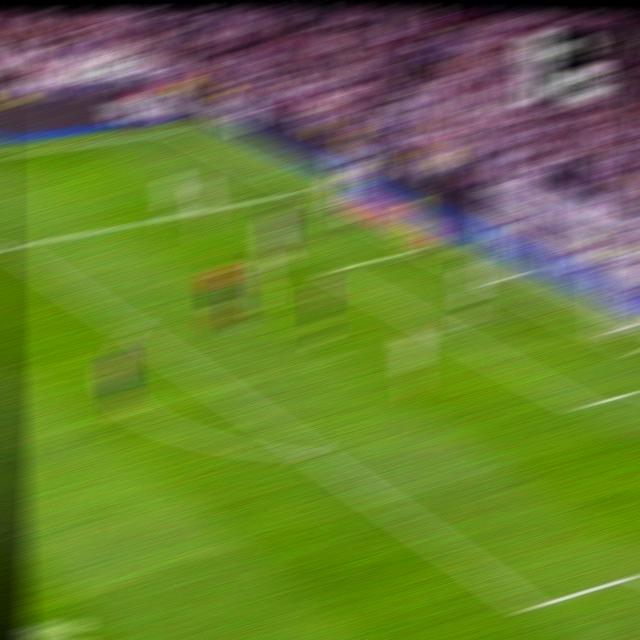bigarea_bottom_inner: (515, 589, 543, 624)
bigarea_top_inner: (0, 234, 21, 258)
bigarea_top_outter: (290, 183, 312, 195)
bottom_arc_area_intersection: (295, 435, 324, 467)
corner: (168, 124, 191, 134)
smallarea_bottom_inner: (570, 394, 593, 417)
smallarea_top_inner: (318, 259, 343, 278)
top_arc_area_intersection: (120, 318, 146, 339)
